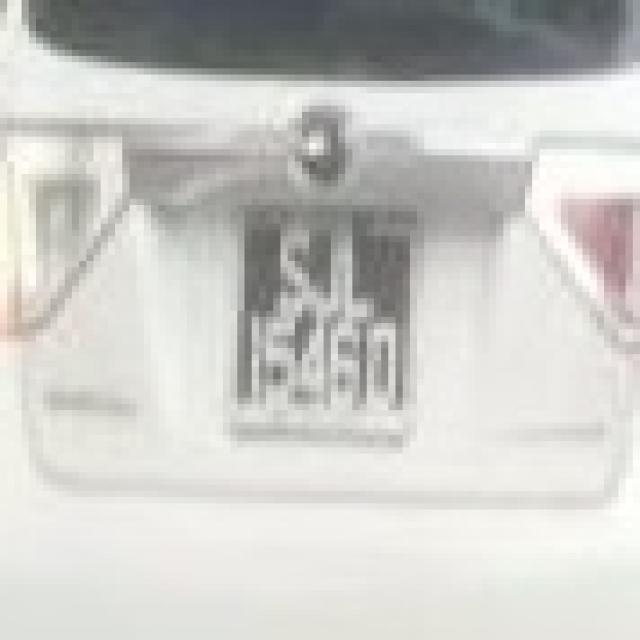1: (243, 314, 262, 408)
4: (298, 319, 333, 407)
5: (263, 318, 297, 408)
6: (329, 320, 359, 408)
D: (358, 324, 401, 408)
J: (310, 227, 344, 314)
L: (338, 226, 376, 316)
S: (270, 224, 312, 314)
